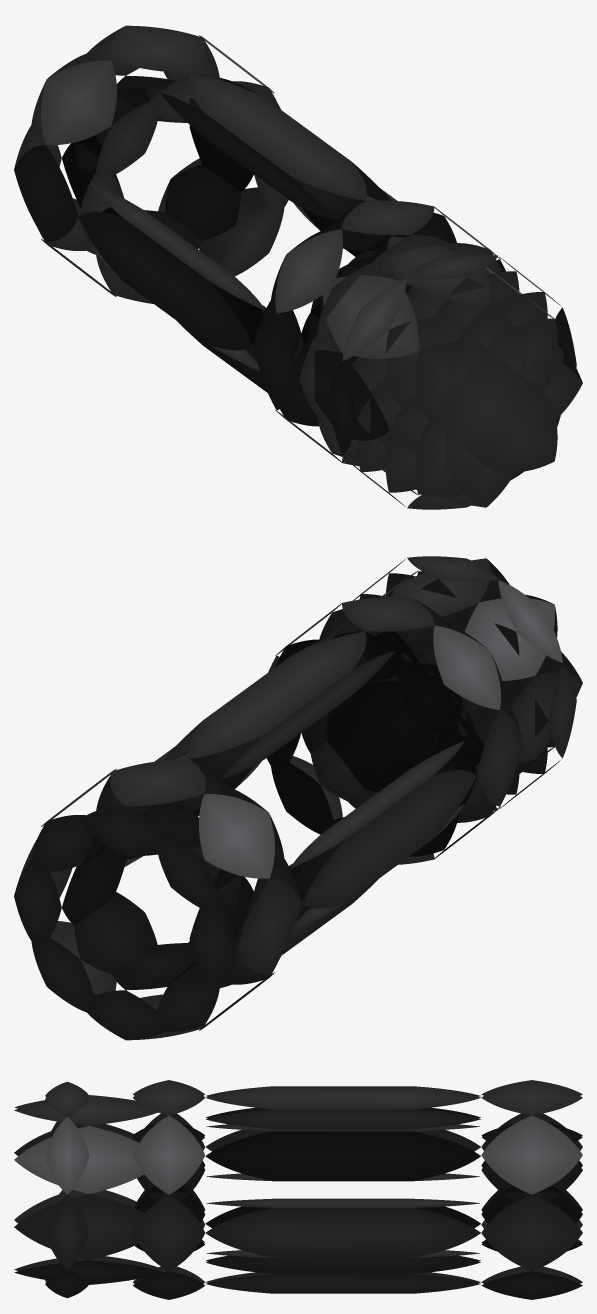
The model's file is udp_9_muzzle_compensator.fbx.
3 renders of one model, top to bottom at view 1: azimuth 30°, elevation 25°; view 2: azimuth 150°, elevation 25°; view 3: azimuth 270°, elevation 25°, orthographic. The views are drawn at different scales.
Visible parts, largest first — view 1: octagon_1, octagon_26, octagon_25, octagon_3, octagon_2, octagon_19, octagon_17, octagon_23, octagon_4, octagon_20, octagon_5, octagon_11 (+13 smaller); view 2: octagon_26, octagon_25, octagon_1, octagon_19, octagon_23, octagon_17, octagon_20, octagon_11, octagon_24, octagon_18, octagon_9, octagon_13 (+15 smaller); view 3: octagon_27, octagon_26, octagon_25, octagon_28, octagon_22, octagon_24, octagon_3, octagon_4, octagon_14, octagon_15, octagon_2, octagon_20 (+10 smaller).
Boxes of the visible parts, x1,y1,x2,y2 form: octagon_1: (320, 272, 557, 472); octagon_26: (78, 182, 264, 371); octagon_25: (160, 73, 390, 220); octagon_3: (327, 251, 557, 495); octagon_2: (351, 236, 526, 507); octagon_19: (31, 51, 160, 181); octagon_17: (158, 158, 284, 276); octagon_23: (14, 117, 124, 247); octagon_4: (295, 292, 582, 459); octagon_20: (80, 25, 221, 122); octagon_5: (342, 278, 560, 480); octagon_11: (270, 226, 381, 343); octagon_26: (290, 741, 476, 930); octagon_25: (163, 631, 394, 778); octagon_1: (327, 594, 557, 792); octagon_19: (155, 784, 284, 915); octagon_23: (189, 856, 301, 992); octagon_17: (31, 892, 157, 1015); octagon_20: (79, 759, 234, 856); octagon_11: (394, 622, 505, 740); octagon_24: (14, 807, 126, 949); octagon_18: (86, 943, 235, 1040); octagon_9: (270, 741, 364, 834); octagon_13: (430, 690, 522, 806); octagon_27: (205, 1198, 480, 1257); octagon_26: (205, 1124, 480, 1181); octagon_25: (205, 1086, 480, 1129); octagon_28: (205, 1255, 480, 1293); octagon_22: (481, 1115, 582, 1201); octagon_24: (481, 1185, 582, 1270); octagon_3: (14, 1126, 143, 1223); octagon_4: (14, 1124, 144, 1259); octagon_14: (132, 1116, 205, 1201); octagon_15: (133, 1185, 205, 1270); octagon_2: (14, 1095, 163, 1270); octagon_20: (481, 1080, 582, 1142).
Size of the model in its own units: 5.47 by 5.47 by 15.3.
Materials: 1 (1 with a texture image).
